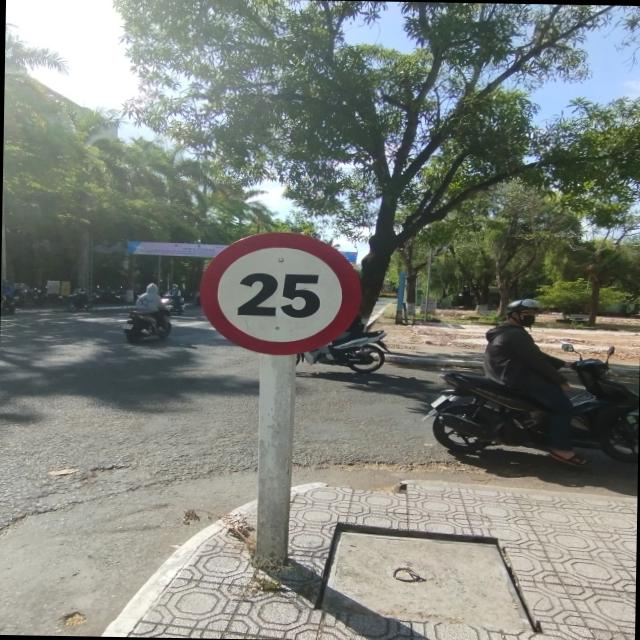Tre_Em: (197, 230, 366, 357)
